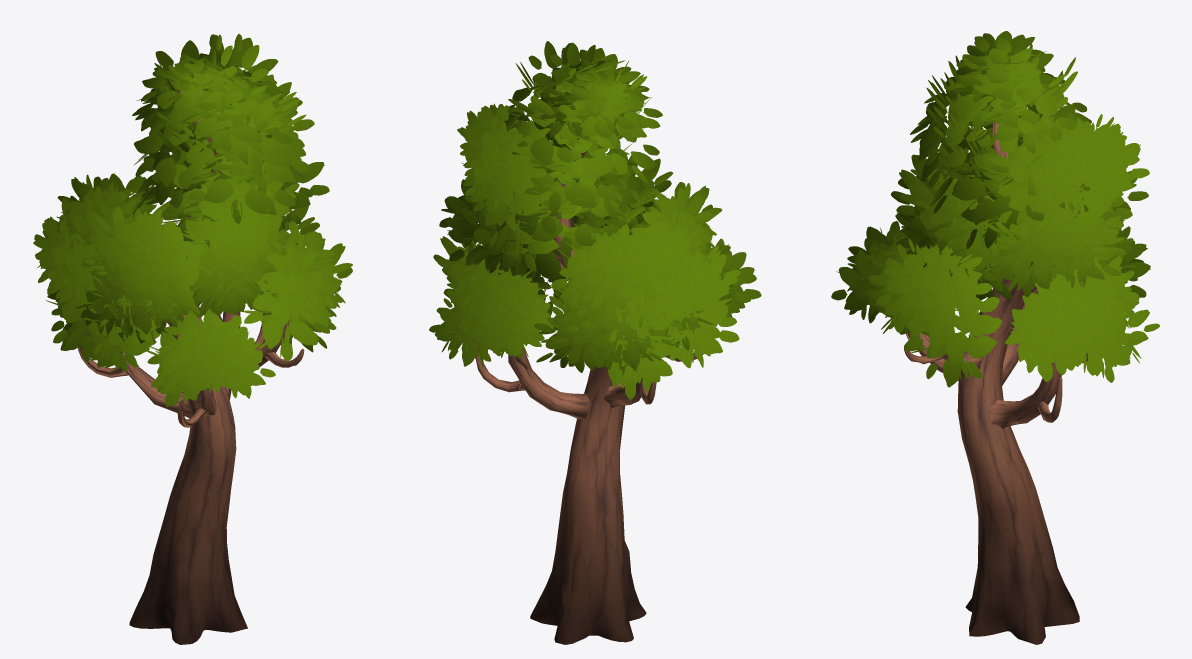
The model's file is tree2.glb.
3 views of the same model, side by side, from view 1: azimuth 30°, elevation 25°; view 2: azimuth 150°, elevation 25°; view 3: azimuth 270°, elevation 25° (orthographic). The views are drawn at different scales.
Parts seen in each view (by area): view 1: CommonTree_2; view 2: CommonTree_2; view 3: CommonTree_2.
Boxes of the visible parts, x1=… form: CommonTree_2: x1=33, y1=34, x2=352, y2=644; CommonTree_2: x1=429, y1=41, x2=761, y2=644; CommonTree_2: x1=831, y1=31, x2=1159, y2=644.
Size of the model in its own units: 4.46 by 7.64 by 4.28.
2 materials, 2 textured.
